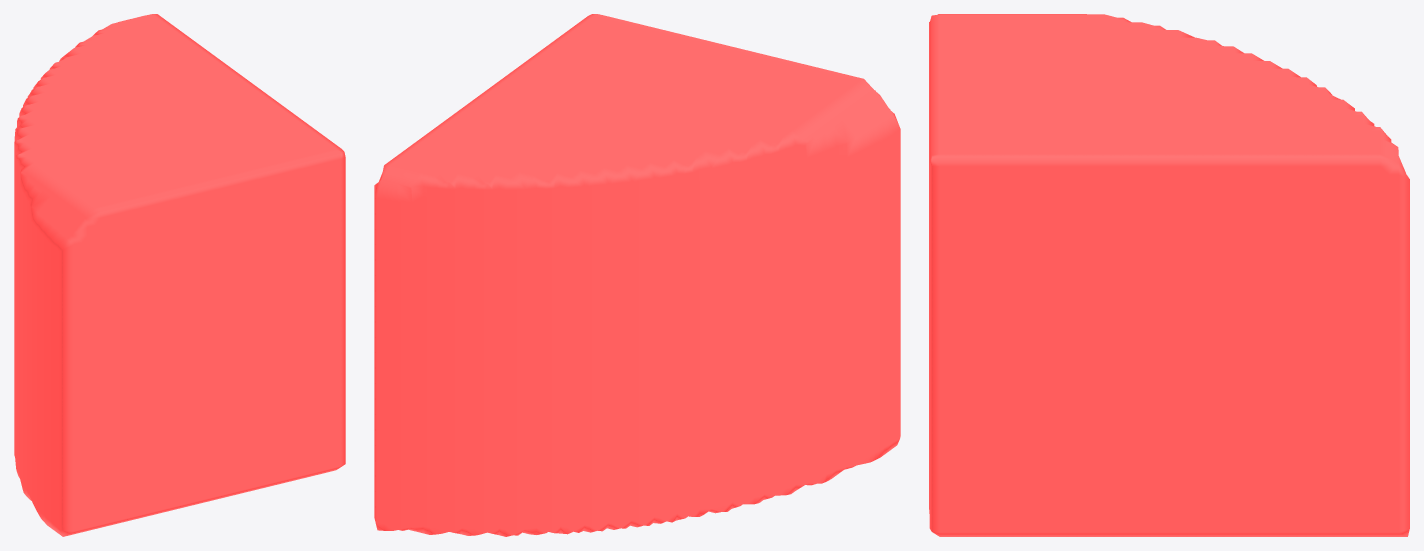
Rendered from taillight_left.glb.
3 views of the same model, side by side, from view 1: azimuth 30°, elevation 25°; view 2: azimuth 150°, elevation 25°; view 3: azimuth 270°, elevation 25° (orthographic). The views are drawn at different scales.
Visible parts, largest first — view 1: taillight_left; view 2: taillight_left; view 3: taillight_left.
Boxes of the visible parts, x1,y1,x2,y2 form: taillight_left: (14,14,345,536); taillight_left: (374,14,900,536); taillight_left: (929,14,1409,536).
Size of the model in its own units: 2.31 by 2.5 by 2.84.
